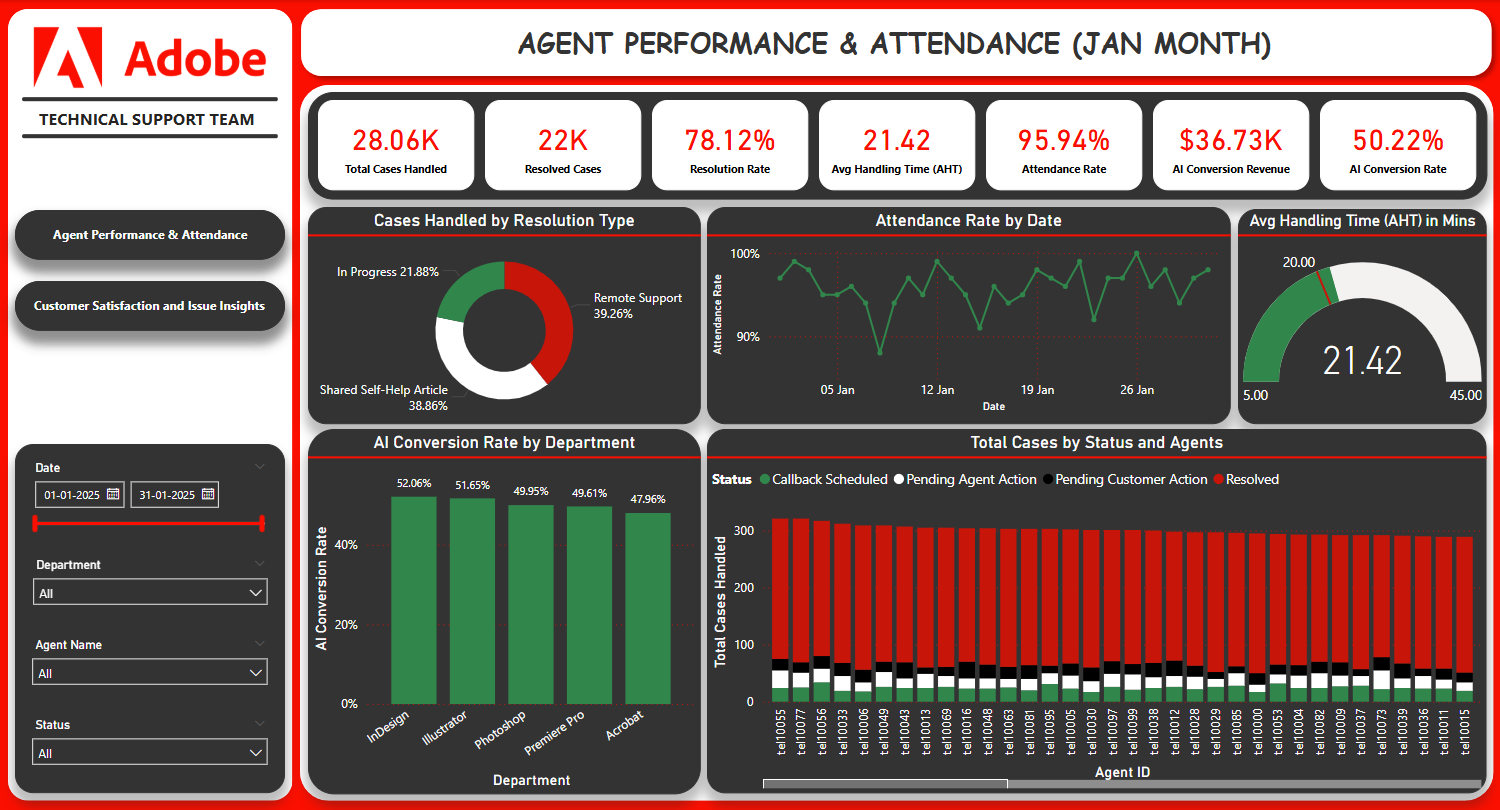

The page's visual inventory and layout, read from the dashboard file:
{"tool":"powerbi","page":{"name":"Agent Performance & Attendance","canvas":[1480,800],"ordinal":0},"visuals":[{"type":"shape","box":[9,9,280.2,779.9],"z":0,"group":"g14"},{"type":"shape","box":[296.2,83.8,1175.8,705.1],"z":1000,"group":"g14"},{"type":"shape","box":[16,206.4,266.3,48.9],"z":1000,"group":"g1"},{"type":"shape","box":[16,206.4,266.3,48.9],"z":1000,"group":"g13"},{"type":"shape","box":[16,277.3,266.3,48.9],"z":1000,"group":"g12"},{"type":"group","id":"g1","title":"Group 1","box":[16,206.4,266.3,48.9],"z":2000,"group":"g14"},{"type":"textbox","box":[48.9,216.4,217.4,33.9],"z":3000,"group":"g1"},{"type":"group","id":"g2","title":"Group 2","box":[16,277.3,266.3,48.9],"z":3000,"group":"g14"},{"type":"shape","box":[304.2,90.8,1161.9,105.7],"z":4000,"group":"g6"},{"type":"group","id":"g3","title":"Group 3","box":[16,437.8,266.3,344.1],"z":4000,"group":"g14"},{"type":"group","id":"g4","title":"Group 4","box":[9,9,280.2,139.6],"z":5000,"group":"g14"},{"type":"card","fields":{"Values":["Table.MonthlyAttendanceRate"]},"box":[972.4,98.8,153.6,88.8],"z":5000,"group":"g6"},{"type":"group","id":"g5","title":"Group 5","box":[289.2,0,1190.8,83.8],"z":6000,"group":"g14"},{"type":"card","fields":{"Values":["Table.Total Cases Handled"]},"box":[314.2,98.8,153.6,88.8],"z":6000,"group":"g6"},{"type":"group","id":"g6","title":"Group 6","box":[304.2,90.8,1161.9,105.7],"z":7000,"group":"g14"},{"type":"card","fields":{"Values":["Table.Avg Handling Time (AHT)"]},"box":[807.8,98.8,153.6,88.8],"z":7000,"group":"g6"},{"type":"card","fields":{"Values":["Table.Reolved Cases"]},"box":[478.7,98.8,153.6,88.8],"z":8000,"group":"g6"},{"type":"group","id":"g7","title":"Group 7","box":[304.2,203.5,387,214.4],"z":8000,"group":"g14"},{"type":"card","fields":{"Values":["Table.Resolution Rate"]},"box":[643.3,98.8,153.6,88.8],"z":9000,"group":"g6"},{"type":"group","id":"g8","title":"Group 8","box":[698.1,203.5,515.6,214.4],"z":9000,"group":"g14"},{"type":"card","fields":{"Values":["Table.AI Conversion Revenue"]},"box":[1136.9,98.8,153.6,88.8],"z":10000,"group":"g6"},{"type":"group","id":"g9","title":"Group 9","box":[1220.7,205.4,245.3,212.4],"z":10000,"group":"g14"},{"type":"card","fields":{"Values":["Table.AI Conversion Rate"]},"box":[1301.5,98.8,153.6,88.8],"z":11000,"group":"g6"},{"type":"group","id":"g10","title":"Group 10","box":[304.2,422.9,387,360],"z":11000,"group":"g14"},{"type":"image","box":[9,9,280.2,97.7],"z":12000,"group":"g4"},{"type":"group","id":"g11","title":"Group 11","box":[698.1,422.9,767.9,359],"z":12000,"group":"g14"},{"type":"shape","box":[23,83.8,252.3,27.9],"z":13000,"group":"g4"},{"type":"group","id":"g12","title":"Group 1","box":[16,277.3,266.3,48.9],"z":13000,"group":"g14"},{"type":"textbox","box":[34.9,101.7,231.4,31.9],"z":14000,"group":"g4"},{"type":"group","id":"g13","title":"Group 1","box":[16,206.4,266.3,48.9],"z":14000,"group":"g14"},{"type":"group","id":"g14","title":"Group 12","box":[9,0,1471,788.9],"z":14001},{"type":"shape","box":[23,120.7,252.3,27.9],"z":15000,"group":"g4"},{"type":"shape","box":[16,437.8,266.3,344.1],"z":16000,"group":"g3"},{"type":"slicer","fields":{"Values":["CalendarTable.Date"]},"box":[23.1,449.8,252.3,81.8],"z":17000,"group":"g3"},{"type":"slicer","fields":{"Values":["Agent Details.Agent Name"]},"box":[23.1,624,252.3,65.8],"z":18000,"group":"g3"},{"type":"slicer","fields":{"Values":["Case Details.Status"]},"box":[23.1,703.1,252.3,66.8],"z":19000,"group":"g3"},{"type":"slicer","fields":{"Values":["Agent Details.Department"]},"box":[23.6,544.8,251.3,65.8],"z":20000,"group":"g3"},{"type":"shape","box":[16,277.3,266.3,48.9],"z":21000,"group":"g2"},{"type":"textbox","box":[30,287.3,245.3,33.9],"z":22000,"group":"g2"},{"type":"shape","box":[289.2,0,1190.8,83.8],"z":23000,"group":"g5"},{"type":"textbox","box":[505.7,17.7,766.5,49.3],"z":24000,"group":"g5"},{"type":"shape","box":[698.1,203.5,515.6,214.4],"z":25000,"group":"g8"},{"type":"lineChart","fields":{"Y":["Table.Monthly Attendance Rate"],"Category":["CalendarTable.Date"]},"box":[698.1,206.5,515.6,204.4],"z":26000,"group":"g8"},{"type":"shape","box":[1220.7,205.4,245.3,212.4],"z":27000,"group":"g9"},{"type":"gauge","title":"Avg Handling Time (AHT) in Mins","fields":{"Y":["Table.Avg Handling Time (AHT)"]},"box":[1220.7,207.4,245.3,205.4],"z":28000,"group":"g9"},{"type":"shape","box":[304.2,203.5,387,214.4],"z":29000,"group":"g7"},{"type":"donutChart","title":"Cases Handled by Resolution Type","fields":{"Y":["Table.Total Cases Handled"],"Category":["Case Details.Resolution"]},"box":[304.2,206.5,387,211.4],"z":30000,"group":"g7"},{"type":"shape","box":[304.2,422.9,387,360],"z":31000,"group":"g10"},{"type":"columnChart","fields":{"Category":["Agent Details.Department"],"Y":["Table.AI Conversion Rate"]},"box":[304.2,425.9,387,356],"z":32000,"group":"g10"},{"type":"shape","box":[698.1,422.9,767.9,359],"z":33000,"group":"g11"},{"type":"columnChart","title":"Total Cases by Status and Agents","fields":{"Category":["Case Details.Agent ID"],"Series":["Case Details.Status"],"Y":["Table.Total Cases Handled"]},"box":[698.1,425.9,767.9,356],"z":34000,"group":"g11"}]}

Visuals, with their boxes in screenshot pixels (x1, y1, x2, y2), scaled from the page's 1480x800 canvas onto the 1500x810 screenshot:
shape: select_region(9, 9, 293, 799)
shape: select_region(300, 85, 1492, 799)
shape: select_region(16, 209, 286, 258)
shape: select_region(16, 209, 286, 258)
shape: select_region(16, 281, 286, 330)
"Group 1" group: select_region(16, 209, 286, 258)
textbox: select_region(50, 219, 270, 253)
"Group 2" group: select_region(16, 281, 286, 330)
shape: select_region(308, 92, 1486, 199)
"Group 3" group: select_region(16, 443, 286, 792)
"Group 4" group: select_region(9, 9, 293, 150)
card - Table.MonthlyAttendanceRate: select_region(986, 100, 1141, 190)
"Group 5" group: select_region(293, 0, 1499, 85)
card - Table.Total Cases Handled: select_region(318, 100, 474, 190)
"Group 6" group: select_region(308, 92, 1486, 199)
card - Table.Avg Handling Time (AHT): select_region(819, 100, 974, 190)
card - Table.Reolved Cases: select_region(485, 100, 641, 190)
"Group 7" group: select_region(308, 206, 701, 423)
card - Table.Resolution Rate: select_region(652, 100, 808, 190)
"Group 8" group: select_region(708, 206, 1230, 423)
card - Table.AI Conversion Revenue: select_region(1152, 100, 1308, 190)
"Group 9" group: select_region(1237, 208, 1486, 423)
card - Table.AI Conversion Rate: select_region(1319, 100, 1475, 190)
"Group 10" group: select_region(308, 428, 701, 793)
image: select_region(9, 9, 293, 108)
"Group 11" group: select_region(708, 428, 1486, 792)
shape: select_region(23, 85, 279, 113)
"Group 1" group: select_region(16, 281, 286, 330)
textbox: select_region(35, 103, 270, 135)
"Group 1" group: select_region(16, 209, 286, 258)
"Group 12" group: select_region(9, 0, 1499, 799)
shape: select_region(23, 122, 279, 150)
shape: select_region(16, 443, 286, 792)
slicer - CalendarTable.Date: select_region(23, 455, 279, 538)
slicer - Agent Details.Agent Name: select_region(23, 632, 279, 698)
slicer - Case Details.Status: select_region(23, 712, 279, 780)
slicer - Agent Details.Department: select_region(24, 552, 279, 618)
shape: select_region(16, 281, 286, 330)
textbox: select_region(30, 291, 279, 325)
shape: select_region(293, 0, 1499, 85)
textbox: select_region(513, 18, 1289, 68)
shape: select_region(708, 206, 1230, 423)
lineChart - Table.Monthly Attendance Rate x CalendarTable.Date: select_region(708, 209, 1230, 416)
shape: select_region(1237, 208, 1486, 423)
"Avg Handling Time (AHT) in Mins" gauge: select_region(1237, 210, 1486, 418)
shape: select_region(308, 206, 701, 423)
"Cases Handled by Resolution Type" donutChart: select_region(308, 209, 701, 423)
shape: select_region(308, 428, 701, 793)
columnChart - Agent Details.Department x Table.AI Conversion Rate: select_region(308, 431, 701, 792)
shape: select_region(708, 428, 1486, 792)
"Total Cases by Status and Agents" columnChart: select_region(708, 431, 1486, 792)
